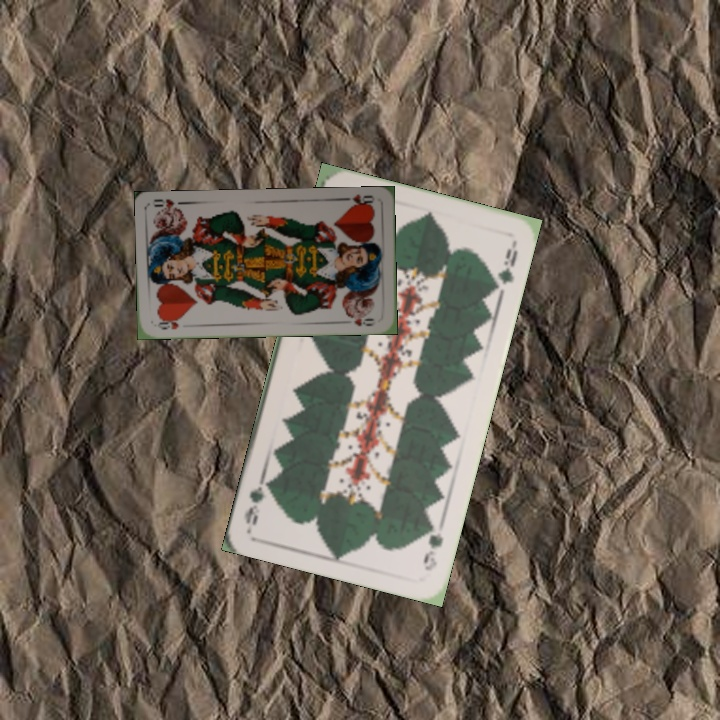G9: (419, 516, 446, 574)
HO: (338, 190, 376, 210), (152, 314, 184, 332)
